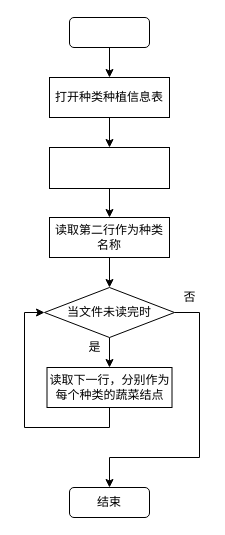
This 225x535 diagram has some shape labels left out. Here are the shapes that lost their labels. From the top down, the centre of each, then its label:
point (109, 32): 开始
point (109, 167): 读取第一行作为种类编号
